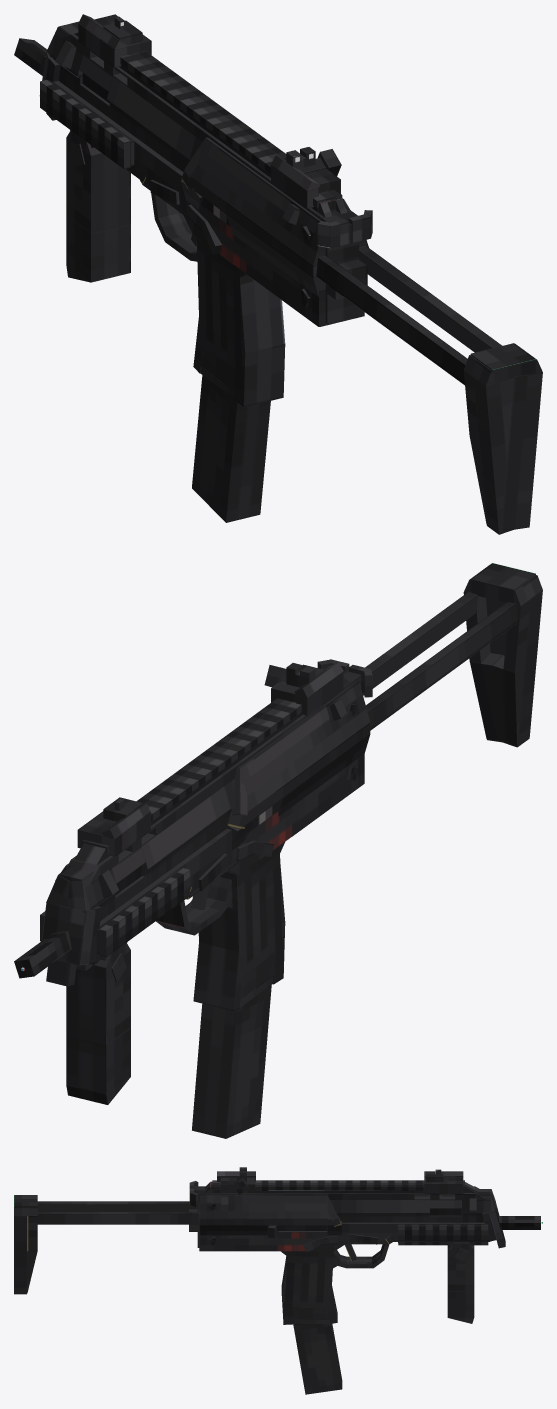
3 renders of one model, top to bottom at view 1: azimuth 30°, elevation 25°; view 2: azimuth 150°, elevation 25°; view 3: azimuth 270°, elevation 25°, orthographic. The views are drawn at different scales.
Parts seen in each view (by area): view 1: gun, magazine, mp7grip, trirail; view 2: gun, magazine, mp7grip, trirail; view 3: gun, magazine, mp7grip, trirail, action.
Part boxes in pixels (x1,y1,x2,y2): gun: (14, 14, 542, 534); magazine: (192, 367, 270, 522); mp7grip: (66, 130, 130, 282); trirail: (40, 79, 138, 178); gun: (14, 563, 542, 1010); magazine: (192, 976, 273, 1138); mp7grip: (66, 942, 130, 1104); trirail: (40, 868, 190, 970); gun: (14, 1167, 540, 1324); magazine: (293, 1319, 342, 1394); mp7grip: (445, 1242, 475, 1323); trirail: (398, 1224, 488, 1245); action: (278, 1225, 327, 1230).
Bounding box in the file's own units: 39.73 × 214 × 466.
